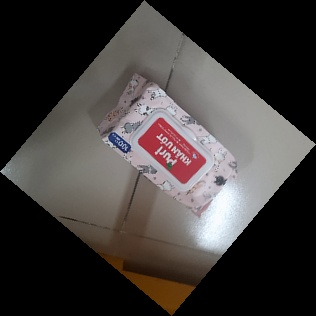Puri hong: (90, 69, 241, 219)
